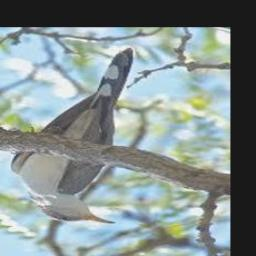Cuckoo: (11, 48, 135, 224)
